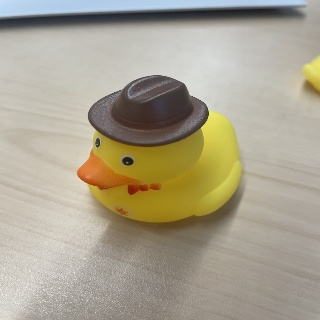duck_specialty: (77, 73, 241, 223)
